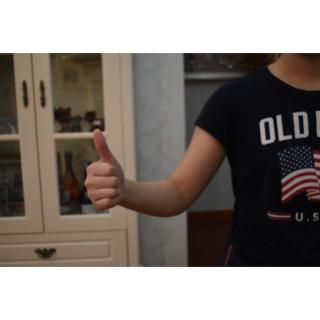ALIF: (83, 124, 132, 213)
